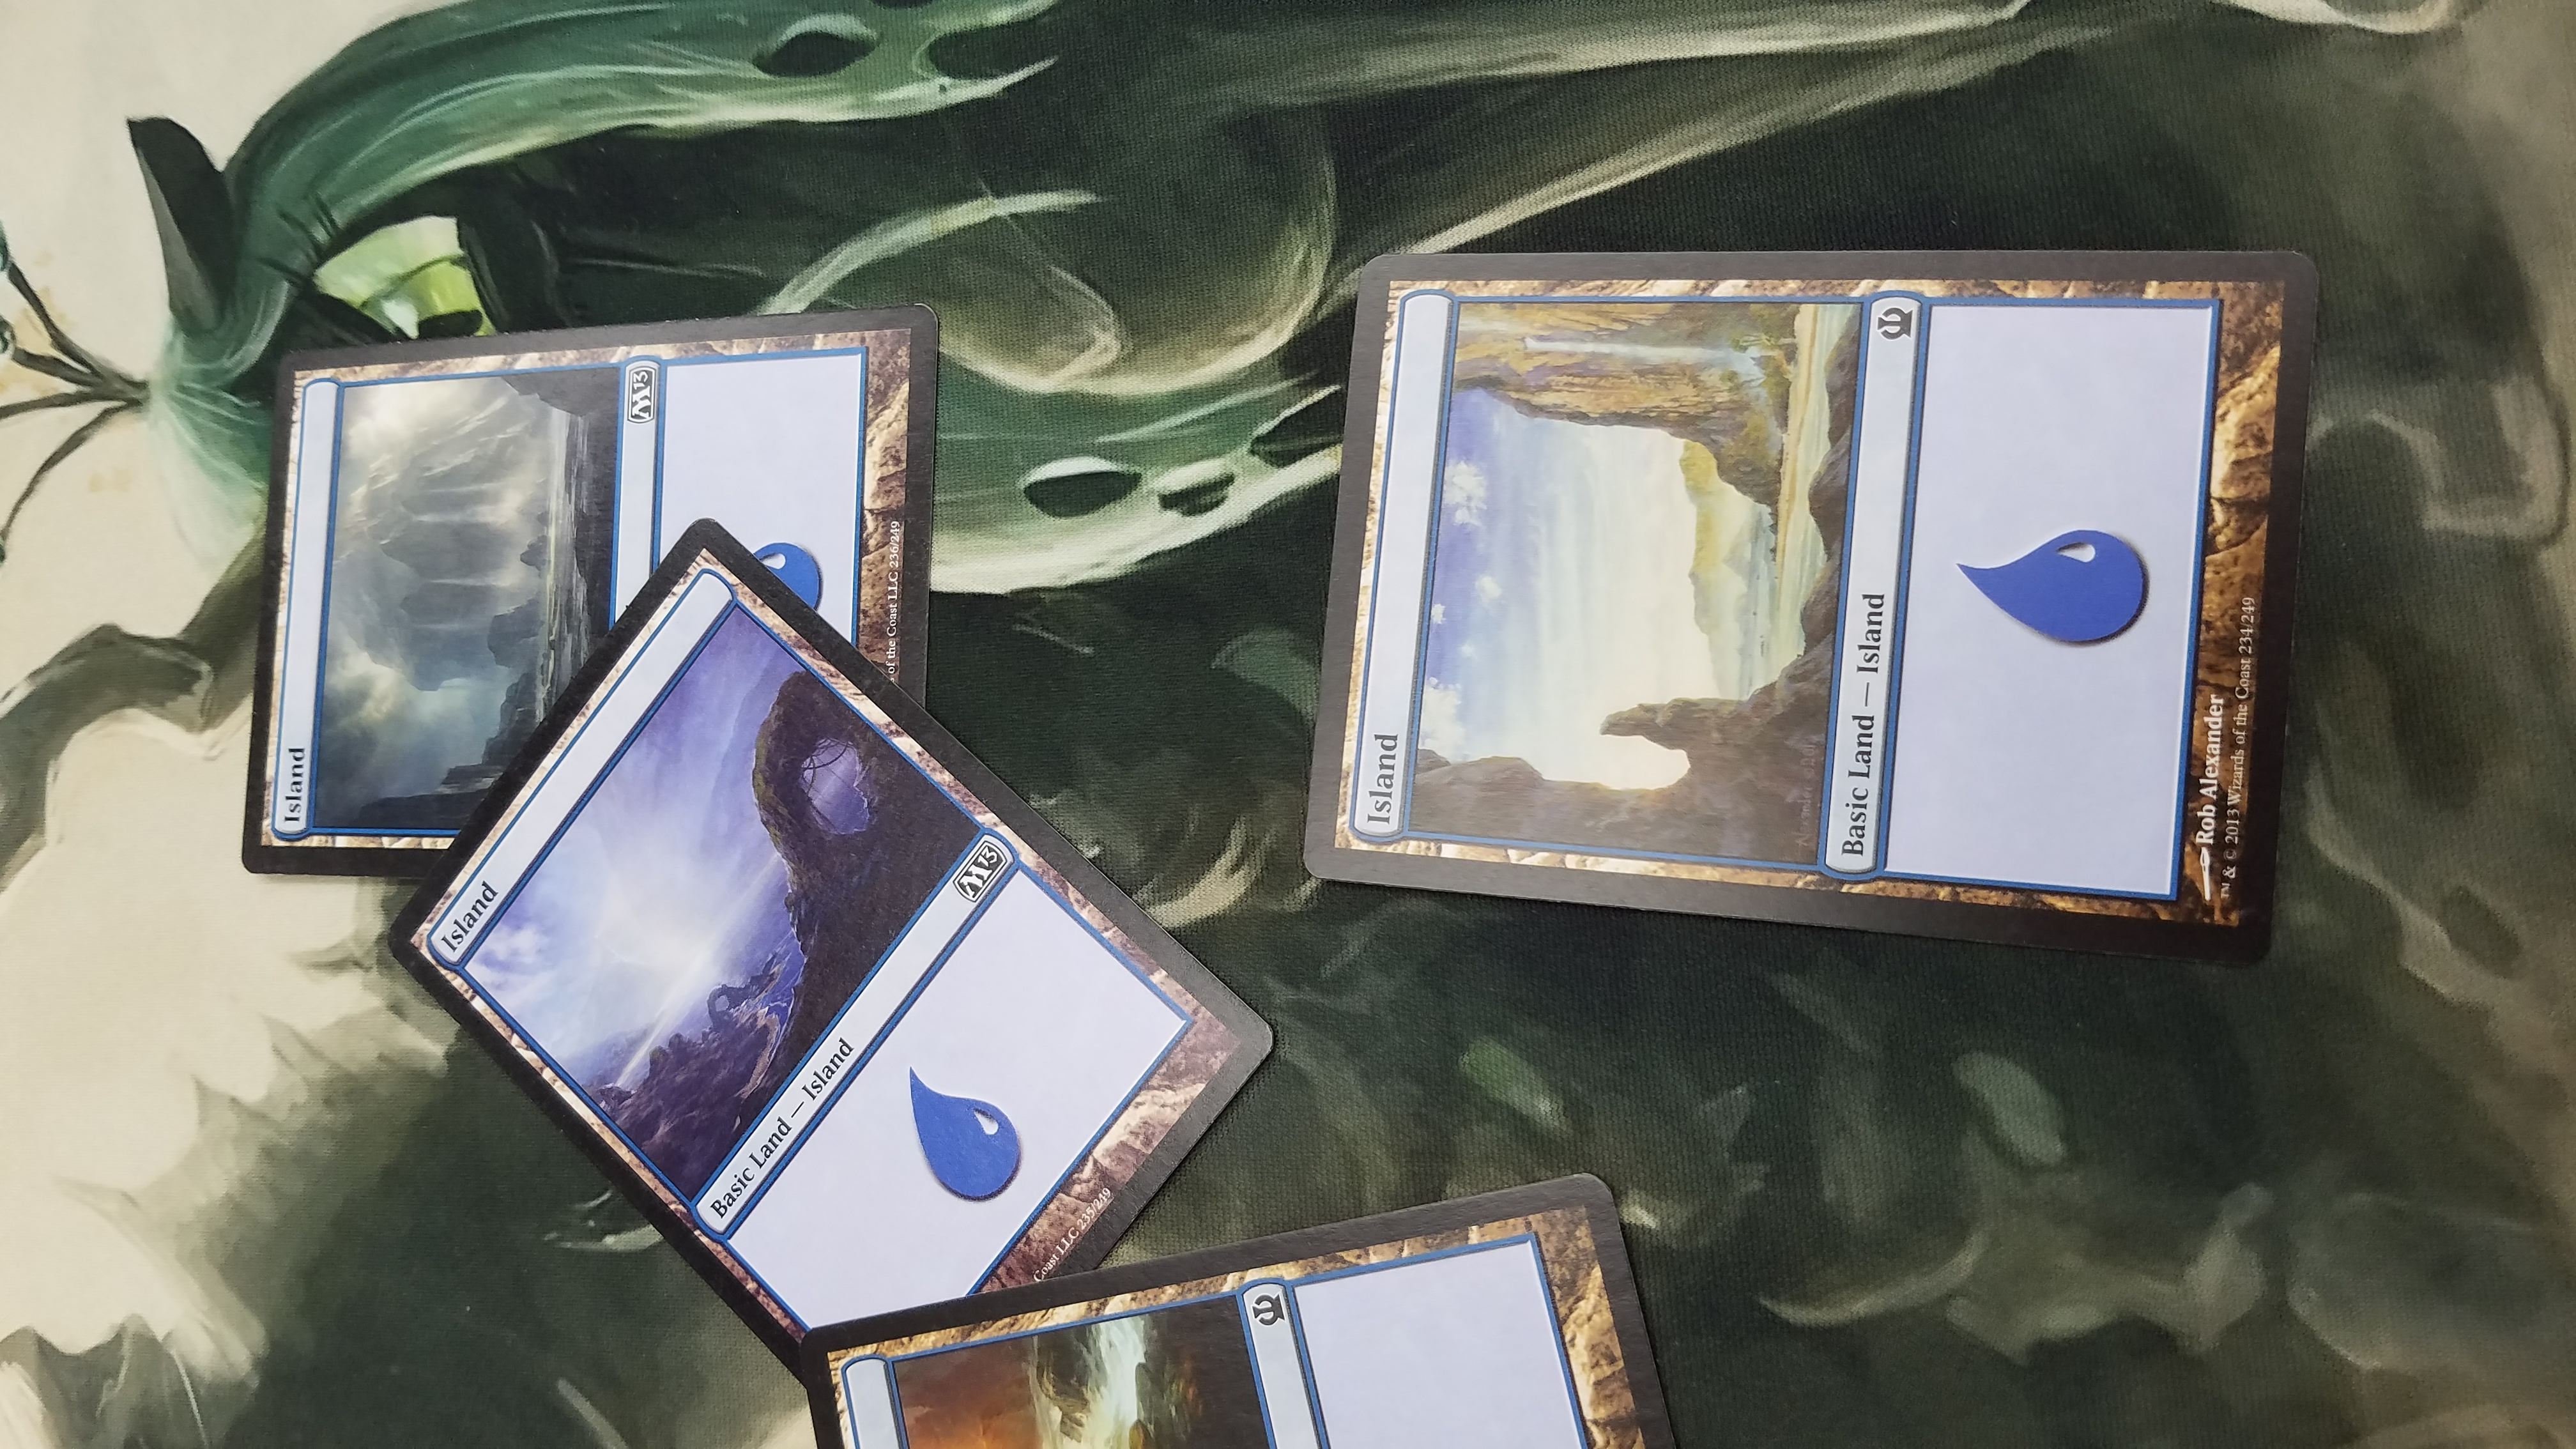Card: (379, 518, 1270, 1364), (1297, 249, 2328, 975), (239, 292, 950, 888)
